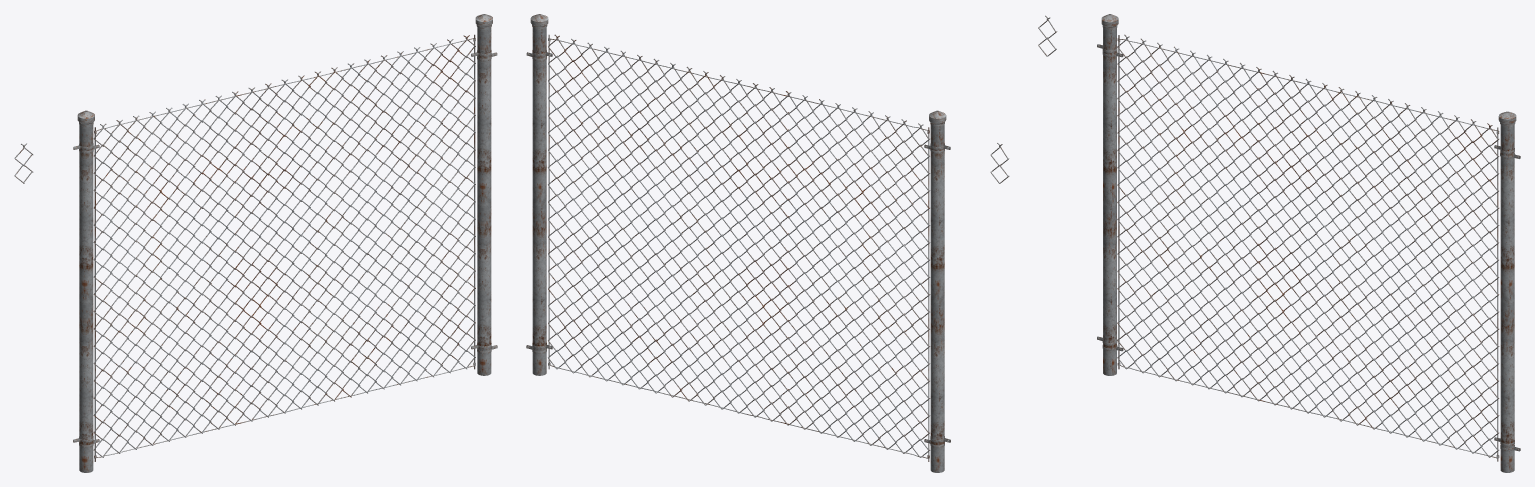
Rendered from Wire_Fence.glb.
3 views of the same model, side by side, from view 1: azimuth 30°, elevation 25°; view 2: azimuth 150°, elevation 25°; view 3: azimuth 330°, elevation 25° (orthographic).
Parts seen in each view (by area): view 1: Wire01, Direct02, Direct01, Direct03, Direct04, Wire04, Wire02; view 2: Wire01, Direct02, Direct01, Direct03, Direct04, Wire04, Wire02; view 3: Wire01, Direct02, Direct01, Direct04, Direct03, Wire04, Wire02.
Boxes of the visible parts, left/top/right/bottom form: Wire01: left=93, top=35, right=475, bottom=457; Direct02: left=477, top=27, right=491, bottom=375; Direct01: left=79, top=125, right=93, bottom=472; Direct03: left=94, top=127, right=95, bottom=461; Direct04: left=474, top=34, right=475, bottom=369; Wire04: left=94, top=38, right=475, bottom=133; Wire02: left=94, top=362, right=475, bottom=458; Wire01: left=548, top=34, right=930, bottom=457; Direct02: left=532, top=27, right=546, bottom=375; Direct01: left=930, top=125, right=944, bottom=472; Direct03: left=928, top=127, right=929, bottom=461; Direct04: left=548, top=34, right=549, bottom=369; Wire04: left=548, top=38, right=929, bottom=133; Wire02: left=548, top=362, right=929, bottom=458; Wire01: left=1117, top=34, right=1499, bottom=457; Direct02: left=1500, top=125, right=1514, bottom=472; Direct01: left=1103, top=28, right=1116, bottom=375; Direct04: left=1497, top=127, right=1498, bottom=461; Direct03: left=1118, top=35, right=1119, bottom=369; Wire04: left=1117, top=38, right=1499, bottom=134; Wire02: left=1117, top=362, right=1499, bottom=458.
Bounding box in the file's own units: 3.16 × 2.24 × 0.1.
Materials: 1 (1 with a texture image).
